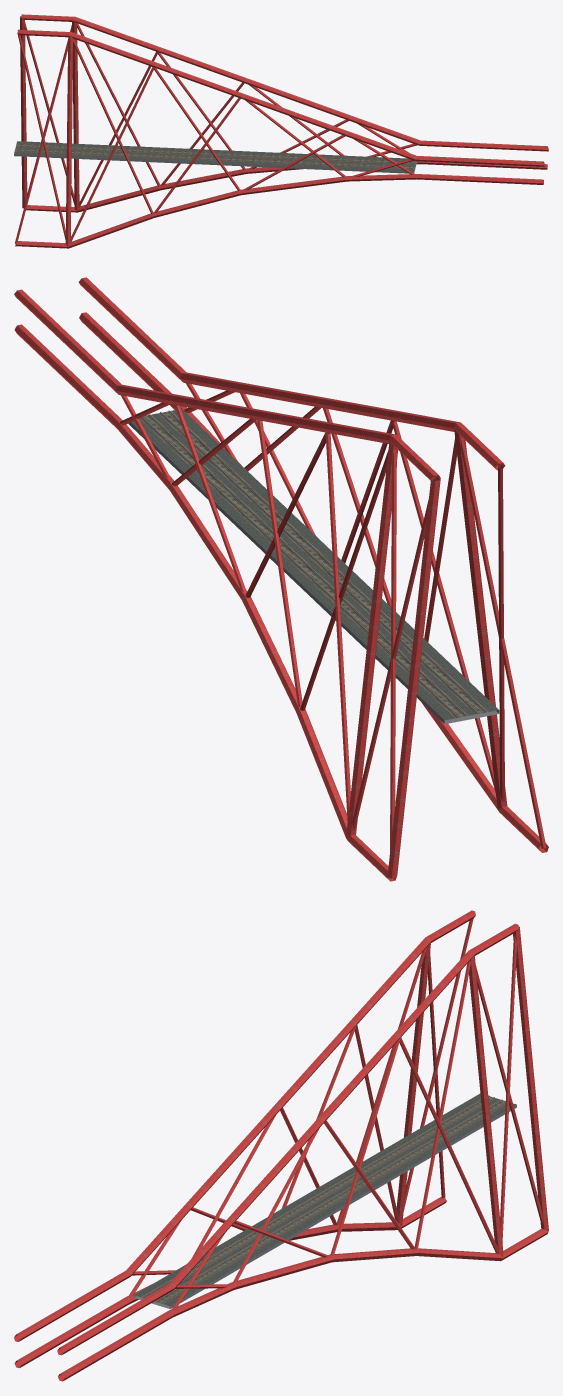
File: railbridge02_sfse.obj
The picture shows the model from 3 angles, top to bottom: view 1: azimuth 30°, elevation 25°; view 2: azimuth 150°, elevation 25°; view 3: azimuth 270°, elevation 25°; orthographic projection. The views are drawn at different scales.
Visible parts, largest first — view 1: railbridge02_sfse; view 2: railbridge02_sfse; view 3: railbridge02_sfse.
Boxes of the visible parts, x1,y1,x2,y2 form: railbridge02_sfse: [14, 14, 548, 248]; railbridge02_sfse: [14, 277, 548, 881]; railbridge02_sfse: [14, 910, 548, 1381].
Bounding box in the file's own units: 167 × 80.94 × 131.
Materials: 4 (4 with a texture image).
